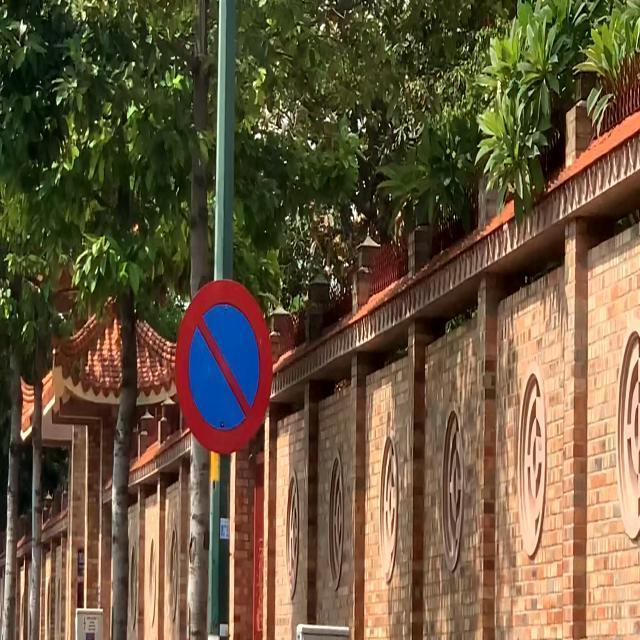131a-cam-do-xe: (174, 279, 270, 451)
